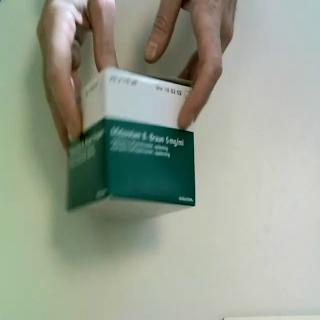midazolam5mg_ml: (62, 63, 201, 233)
